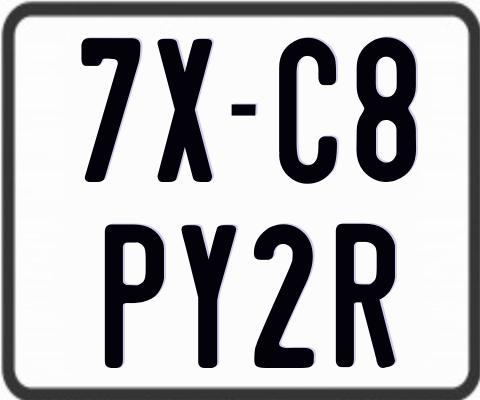2: (252, 223, 315, 371)
7: (81, 38, 145, 184)
8: (356, 34, 416, 183)
C: (276, 37, 334, 187)
P: (105, 222, 168, 366)
R: (335, 223, 396, 369)
X: (158, 39, 218, 186)
Y: (181, 223, 236, 370)
